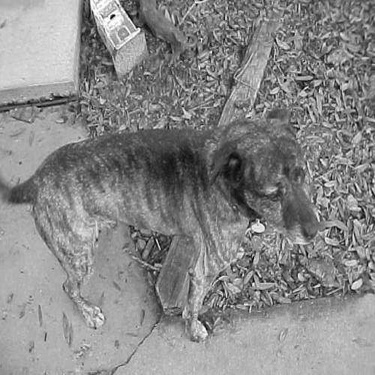dog: (2, 102, 321, 349)
